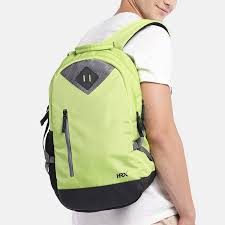backpack: (40, 18, 171, 212)
